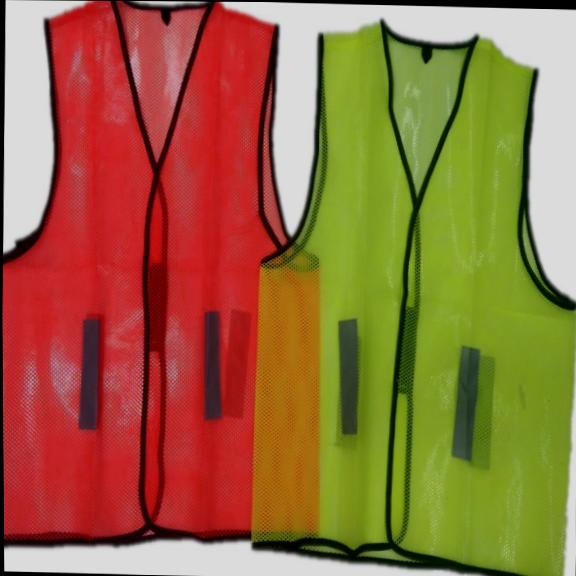safety_vest: (244, 13, 576, 576), (0, 0, 296, 556)
